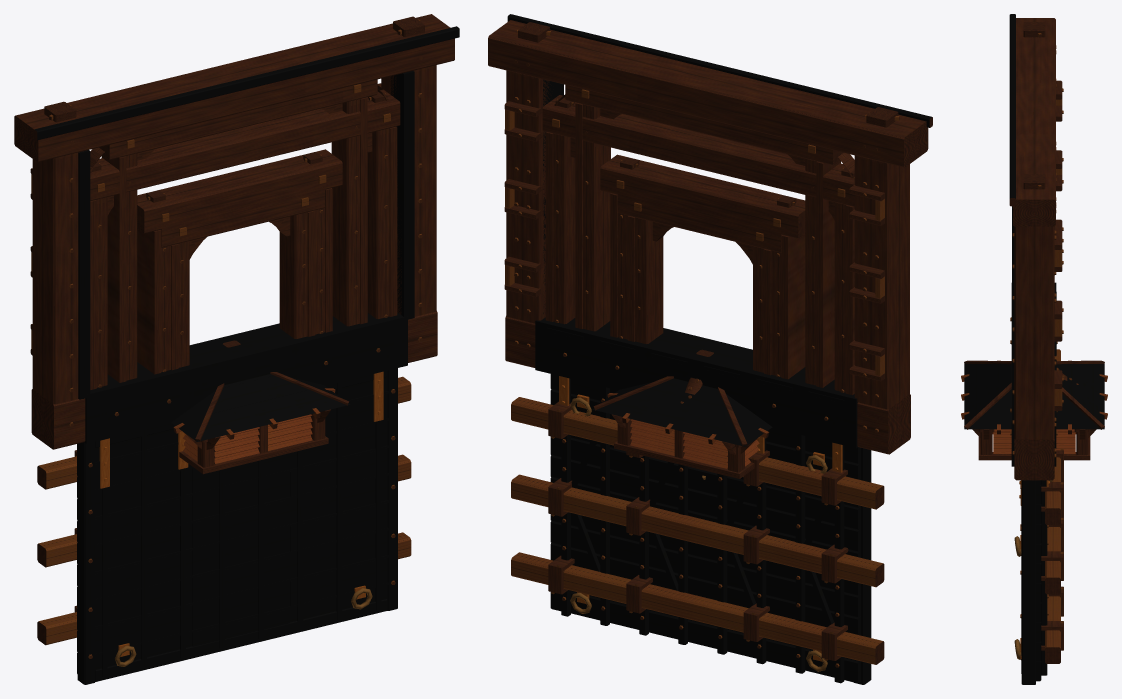
The model's file is ark_wave_a_kit.glb.
The picture shows the model from 3 angles, left to right: view 1: azimuth 30°, elevation 25°; view 2: azimuth 150°, elevation 25°; view 3: azimuth 270°, elevation 25°; orthographic projection. The views are drawn at different scales.
Parts seen in each view (by area): view 1: ark_gate_leaf_s7_LOD0, ark_gate_zarge_s7_LOD0, ark_door_frame_foyer_LOD0, ark_door_frame_d1_LOD0, ark_door_frame_d2_LOD0, ark_badgir_cap_LOD0, ark_door_frame_d3_LOD0; view 2: ark_gate_leaf_s7_LOD0, ark_gate_zarge_s7_LOD0, ark_door_frame_foyer_LOD0, ark_door_frame_d1_LOD0, ark_door_frame_d2_LOD0, ark_badgir_cap_LOD0, ark_door_frame_d3_LOD0; view 3: ark_gate_zarge_s7_LOD0, ark_gate_leaf_s7_LOD0, ark_badgir_cap_LOD0.
Boxes of the visible parts, <box> form: ark_gate_leaf_s7_LOD0: <box>37,368,411,684</box>; ark_gate_zarge_s7_LOD0: <box>14,14,459,449</box>; ark_door_frame_foyer_LOD0: <box>90,89,400,389</box>; ark_door_frame_d1_LOD0: <box>99,79,377,382</box>; ark_door_frame_d2_LOD0: <box>137,149,342,374</box>; ark_badgir_cap_LOD0: <box>171,372,349,474</box>; ark_door_frame_d3_LOD0: <box>161,186,325,370</box>; ark_gate_leaf_s7_LOD0: <box>511,374,884,684</box>; ark_gate_zarge_s7_LOD0: <box>488,14,932,454</box>; ark_door_frame_foyer_LOD0: <box>542,95,854,395</box>; ark_door_frame_d1_LOD0: <box>565,85,843,387</box>; ark_door_frame_d2_LOD0: <box>600,154,805,379</box>; ark_badgir_cap_LOD0: <box>592,376,772,478</box>; ark_door_frame_d3_LOD0: <box>617,192,781,375</box>; ark_gate_zarge_s7_LOD0: <box>1009,14,1063,480</box>; ark_gate_leaf_s7_LOD0: <box>1014,349,1063,684</box>; ark_badgir_cap_LOD0: <box>961,360,1107,460</box>.
Size of what is drawn, in the model's own units: 5.65 by 7.36 by 1.91.
1 material, 1 textured.
